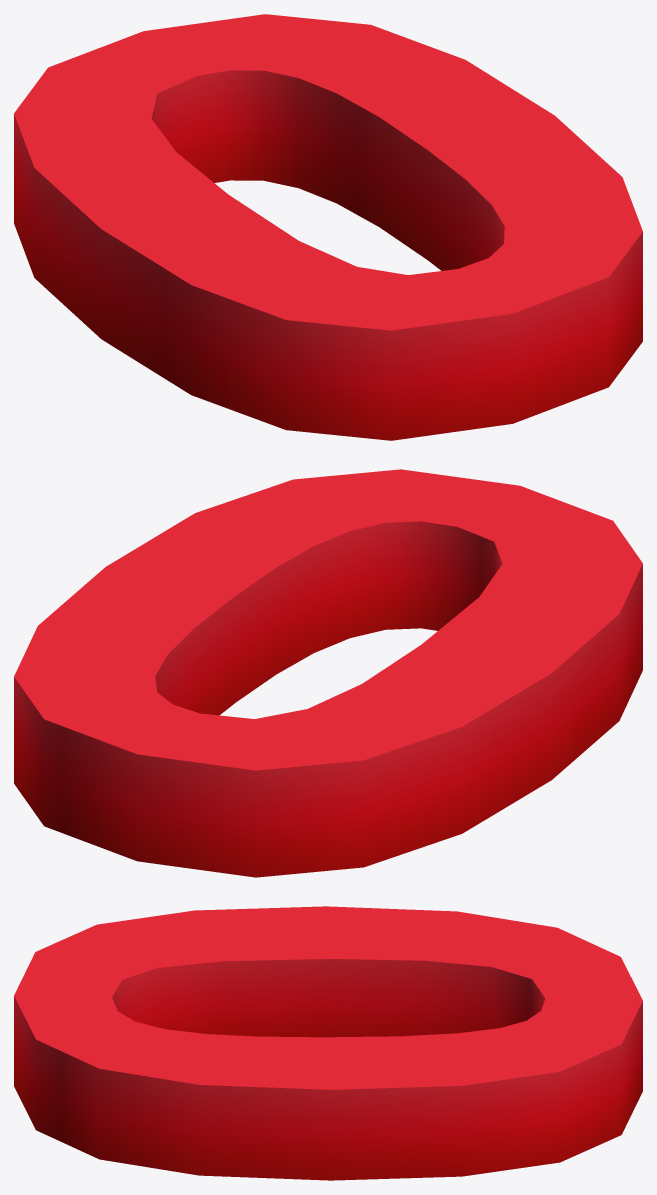
The model's file is figure_0.fbx.
3 views of the same model, one above another, from view 1: azimuth 30°, elevation 25°; view 2: azimuth 150°, elevation 25°; view 3: azimuth 270°, elevation 25° (orthographic). The views are drawn at different scales.
Parts seen in each view (by area): view 1: figure_0; view 2: figure_0; view 3: figure_0.
Boxes of the visible parts, box(x1,y1,x2,y2) form: figure_0: box(14, 14, 642, 440); figure_0: box(14, 469, 642, 877); figure_0: box(14, 906, 642, 1180).
Size of the model in its own units: 16.27 by 3.75 by 23.57.
